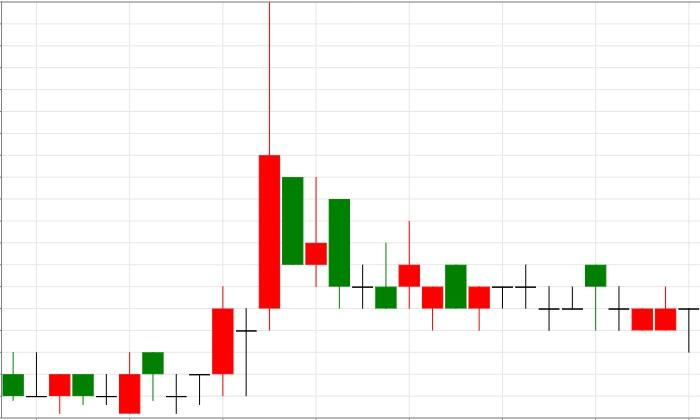inverse_hammer_rise: (282, 176, 397, 309)
